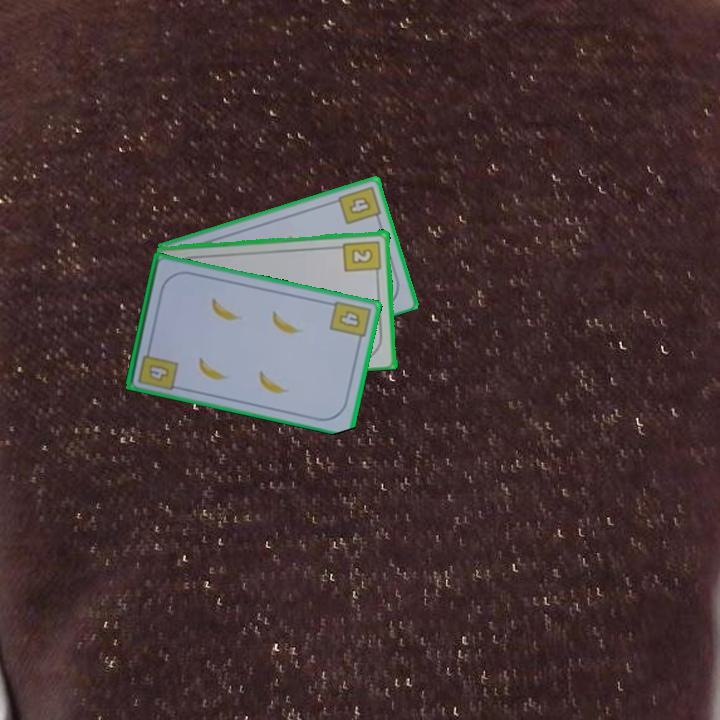2b: (341, 237, 384, 279)
4b: (326, 297, 373, 347), (135, 343, 181, 393), (335, 182, 384, 227)
